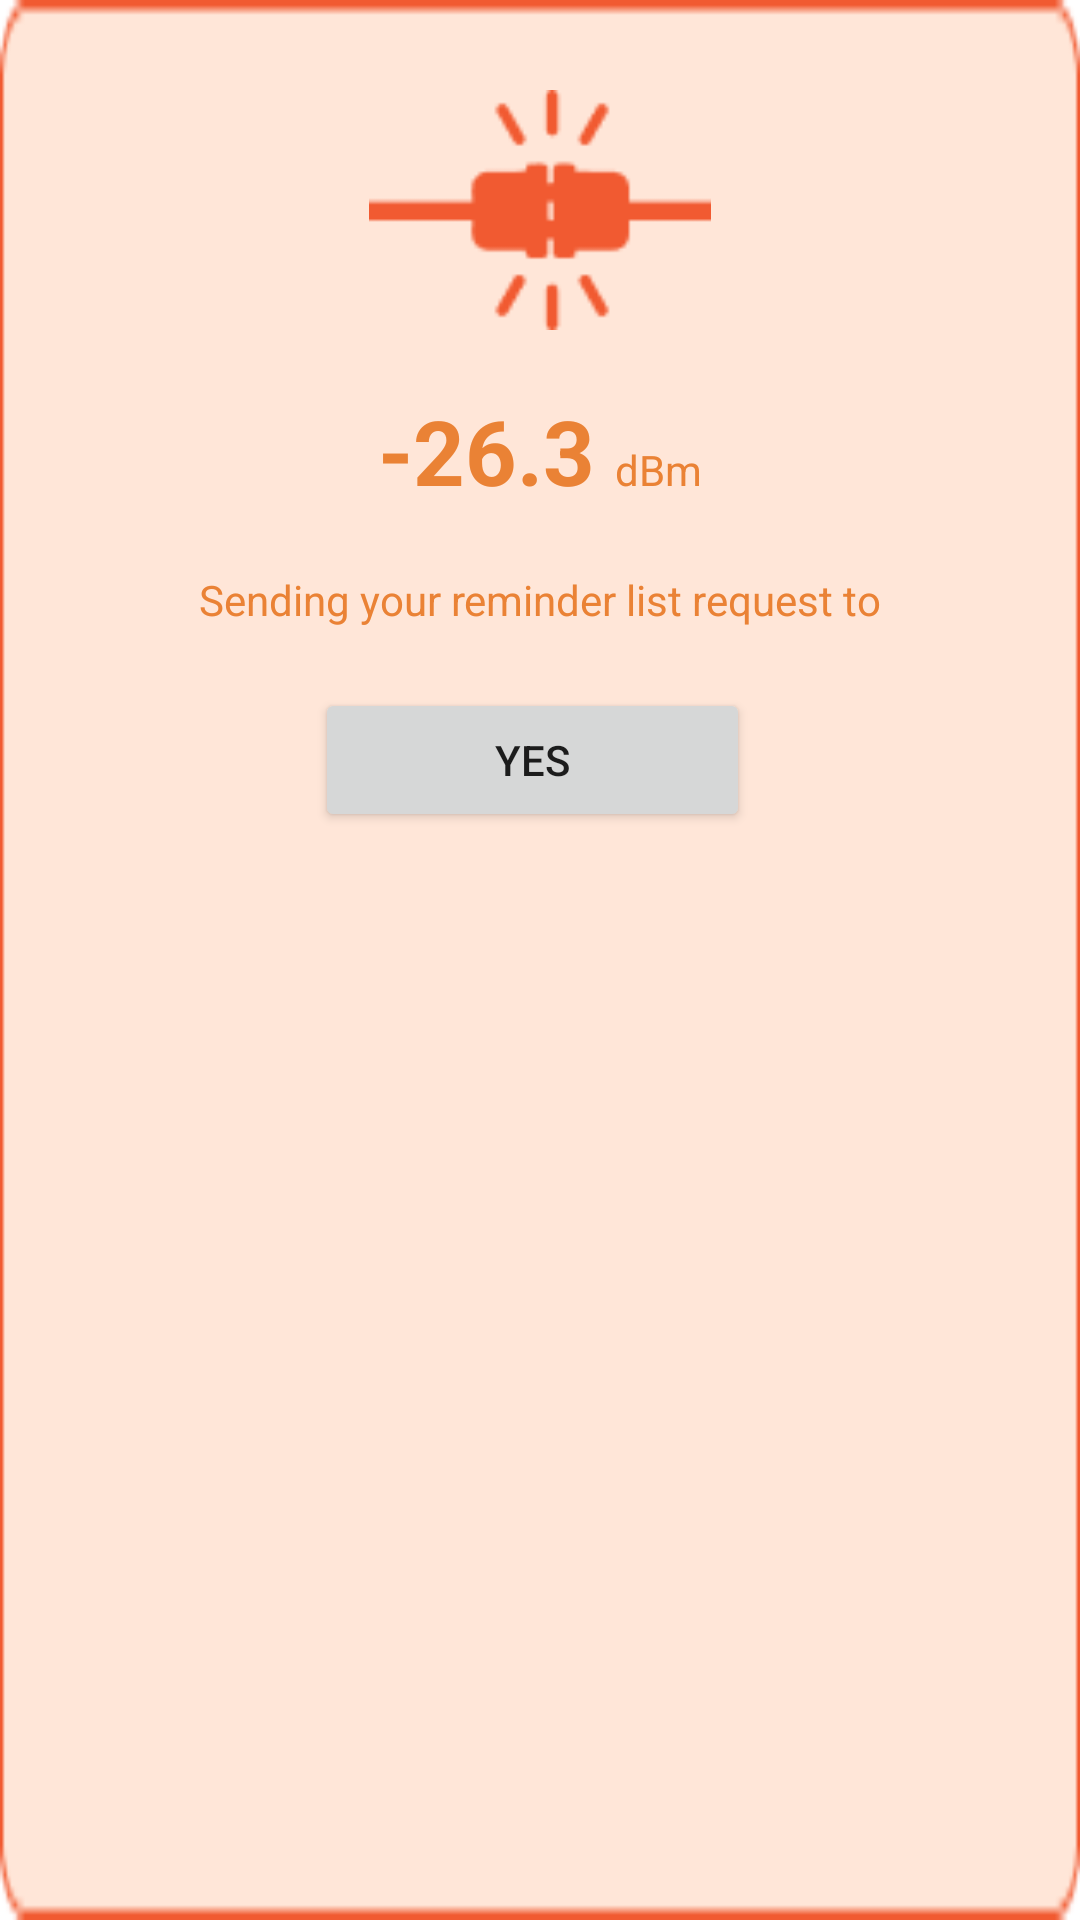

Icons on this 1080*1920 Android screen, each with its box as (x1, y1, x2, y2):
connected: (369, 90, 711, 330)
